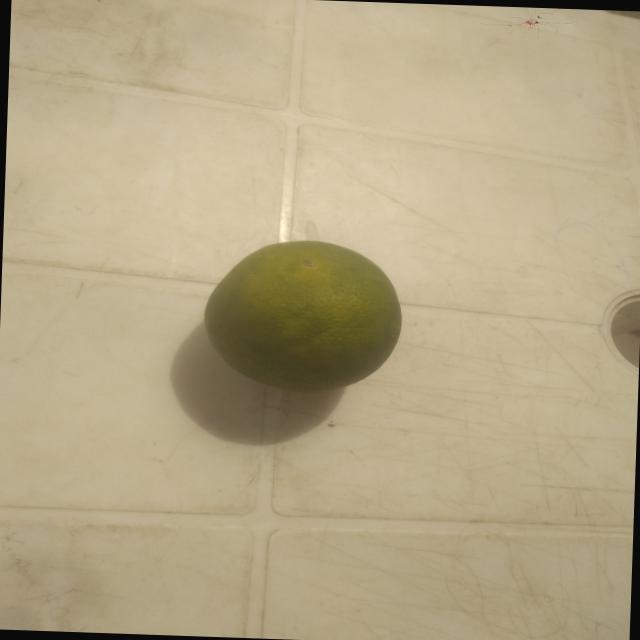agrume: (190, 221, 405, 407)
